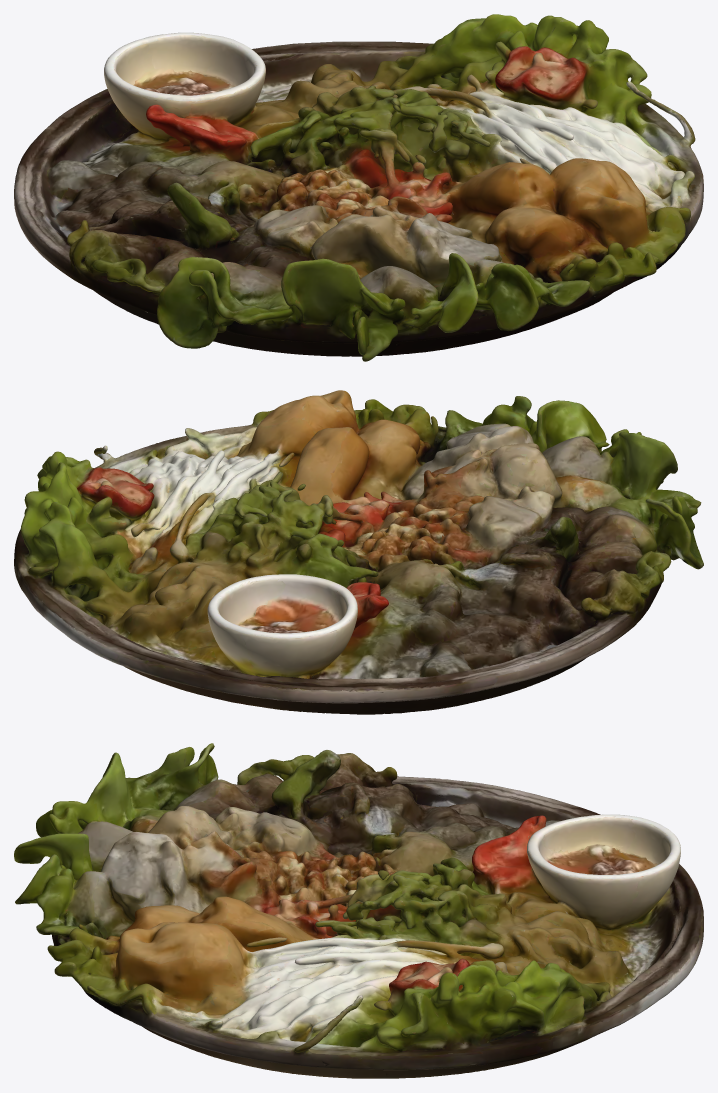
File: food-compressed.glb
3 views of the same model, one above another, from view 1: azimuth 30°, elevation 25°; view 2: azimuth 150°, elevation 25°; view 3: azimuth 270°, elevation 25° (orthographic). The views are drawn at different scales.
Parts seen in each view (by area): view 1: world; view 2: world; view 3: world.
Part boxes in pixels (box(x1,y1,x2,y2)): world: box(14, 14, 703, 361); world: box(14, 390, 703, 714); world: box(14, 743, 703, 1078).
Size of the model in its own units: 0.9766 by 0.1807 by 1.
1 material, 1 textured.
